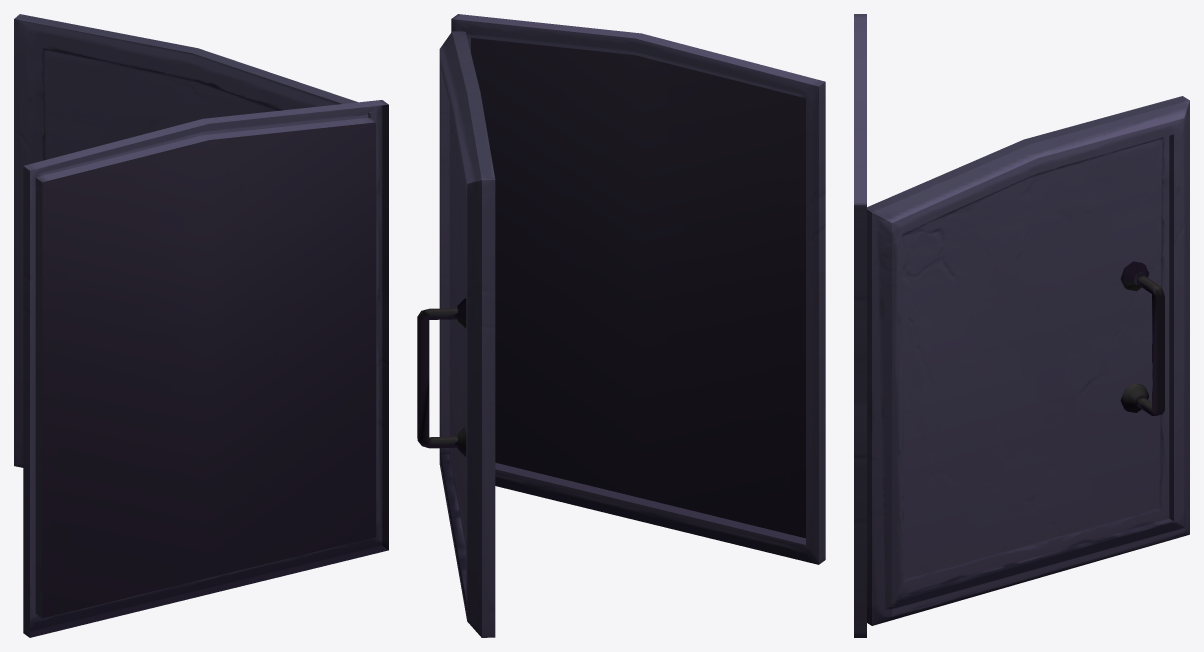
File: MOD_LargeCabinOpen_Block.fbx
3 renders of one model, left to right at view 1: azimuth 30°, elevation 25°; view 2: azimuth 150°, elevation 25°; view 3: azimuth 270°, elevation 25°, orthographic. The views are drawn at different scales.
Visible parts, largest first — view 1: MOD_LargeCabinOpen_Block; view 2: MOD_LargeCabinOpen_Block; view 3: MOD_LargeCabinOpen_Block.
Boxes of the visible parts, bbox=[...] form: MOD_LargeCabinOpen_Block: bbox=[14, 14, 388, 637]; MOD_LargeCabinOpen_Block: bbox=[417, 14, 825, 637]; MOD_LargeCabinOpen_Block: bbox=[854, 14, 1189, 637].
Bounding box in the file's own units: 50.17 × 62.83 × 41.85.
2 materials, 2 textured.
